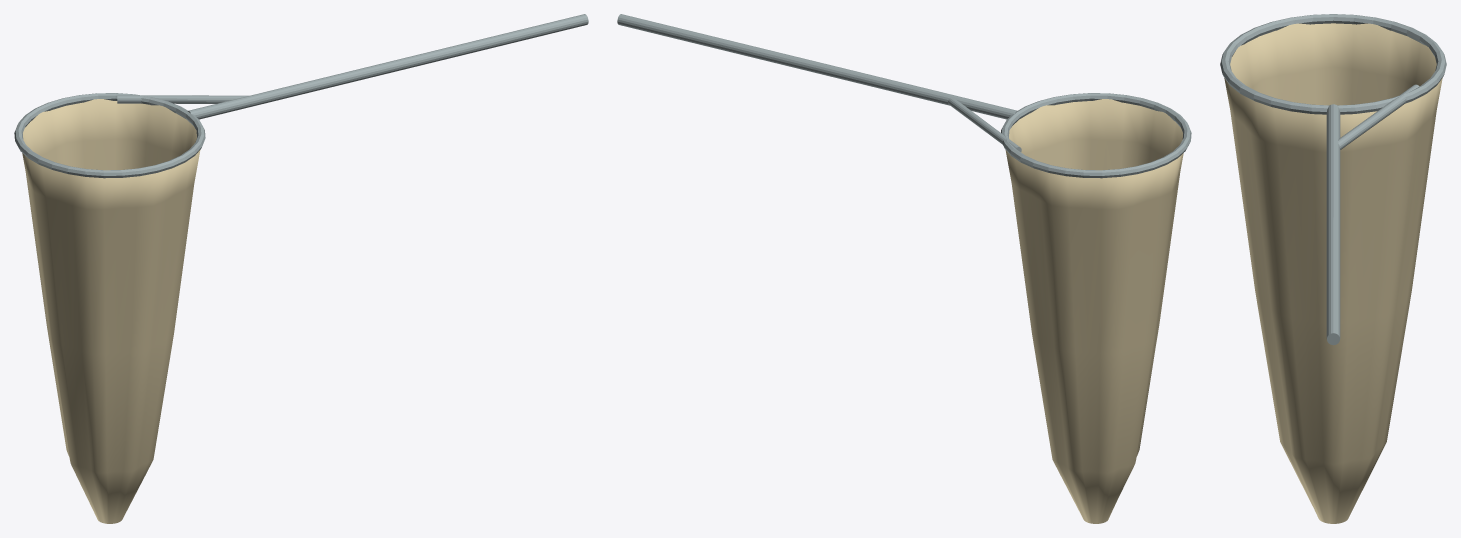
File: kopitiam-coffee-sock.glb
3 renders of one model, left to right at view 1: azimuth 30°, elevation 25°; view 2: azimuth 150°, elevation 25°; view 3: azimuth 270°, elevation 25°, orthographic. The views are drawn at different scales.
Visible parts, largest first — view 1: CLOTH_EditableHollowSock, HANDLE_Main, RIM_MetalRing, HANDLE_Brace; view 2: CLOTH_EditableHollowSock, HANDLE_Main, RIM_MetalRing, HANDLE_Brace; view 3: CLOTH_EditableHollowSock, RIM_MetalRing, HANDLE_Main, HANDLE_Brace.
Boxes of the visible parts, bbox=[...] form: CLOTH_EditableHollowSock: bbox=[22, 99, 200, 523]; HANDLE_Main: bbox=[187, 14, 588, 119]; RIM_MetalRing: bbox=[14, 93, 205, 178]; HANDLE_Brace: bbox=[117, 95, 248, 103]; CLOTH_EditableHollowSock: bbox=[1005, 99, 1183, 523]; HANDLE_Main: bbox=[617, 14, 1018, 119]; RIM_MetalRing: bbox=[1001, 93, 1191, 178]; HANDLE_Brace: bbox=[948, 98, 1021, 151]; CLOTH_EditableHollowSock: bbox=[1224, 23, 1442, 523]; RIM_MetalRing: bbox=[1220, 14, 1446, 114]; HANDLE_Main: bbox=[1326, 104, 1340, 345]; HANDLE_Brace: bbox=[1338, 84, 1419, 149].
Bounding box in the file's own units: 0.458 × 0.304 × 0.136.
